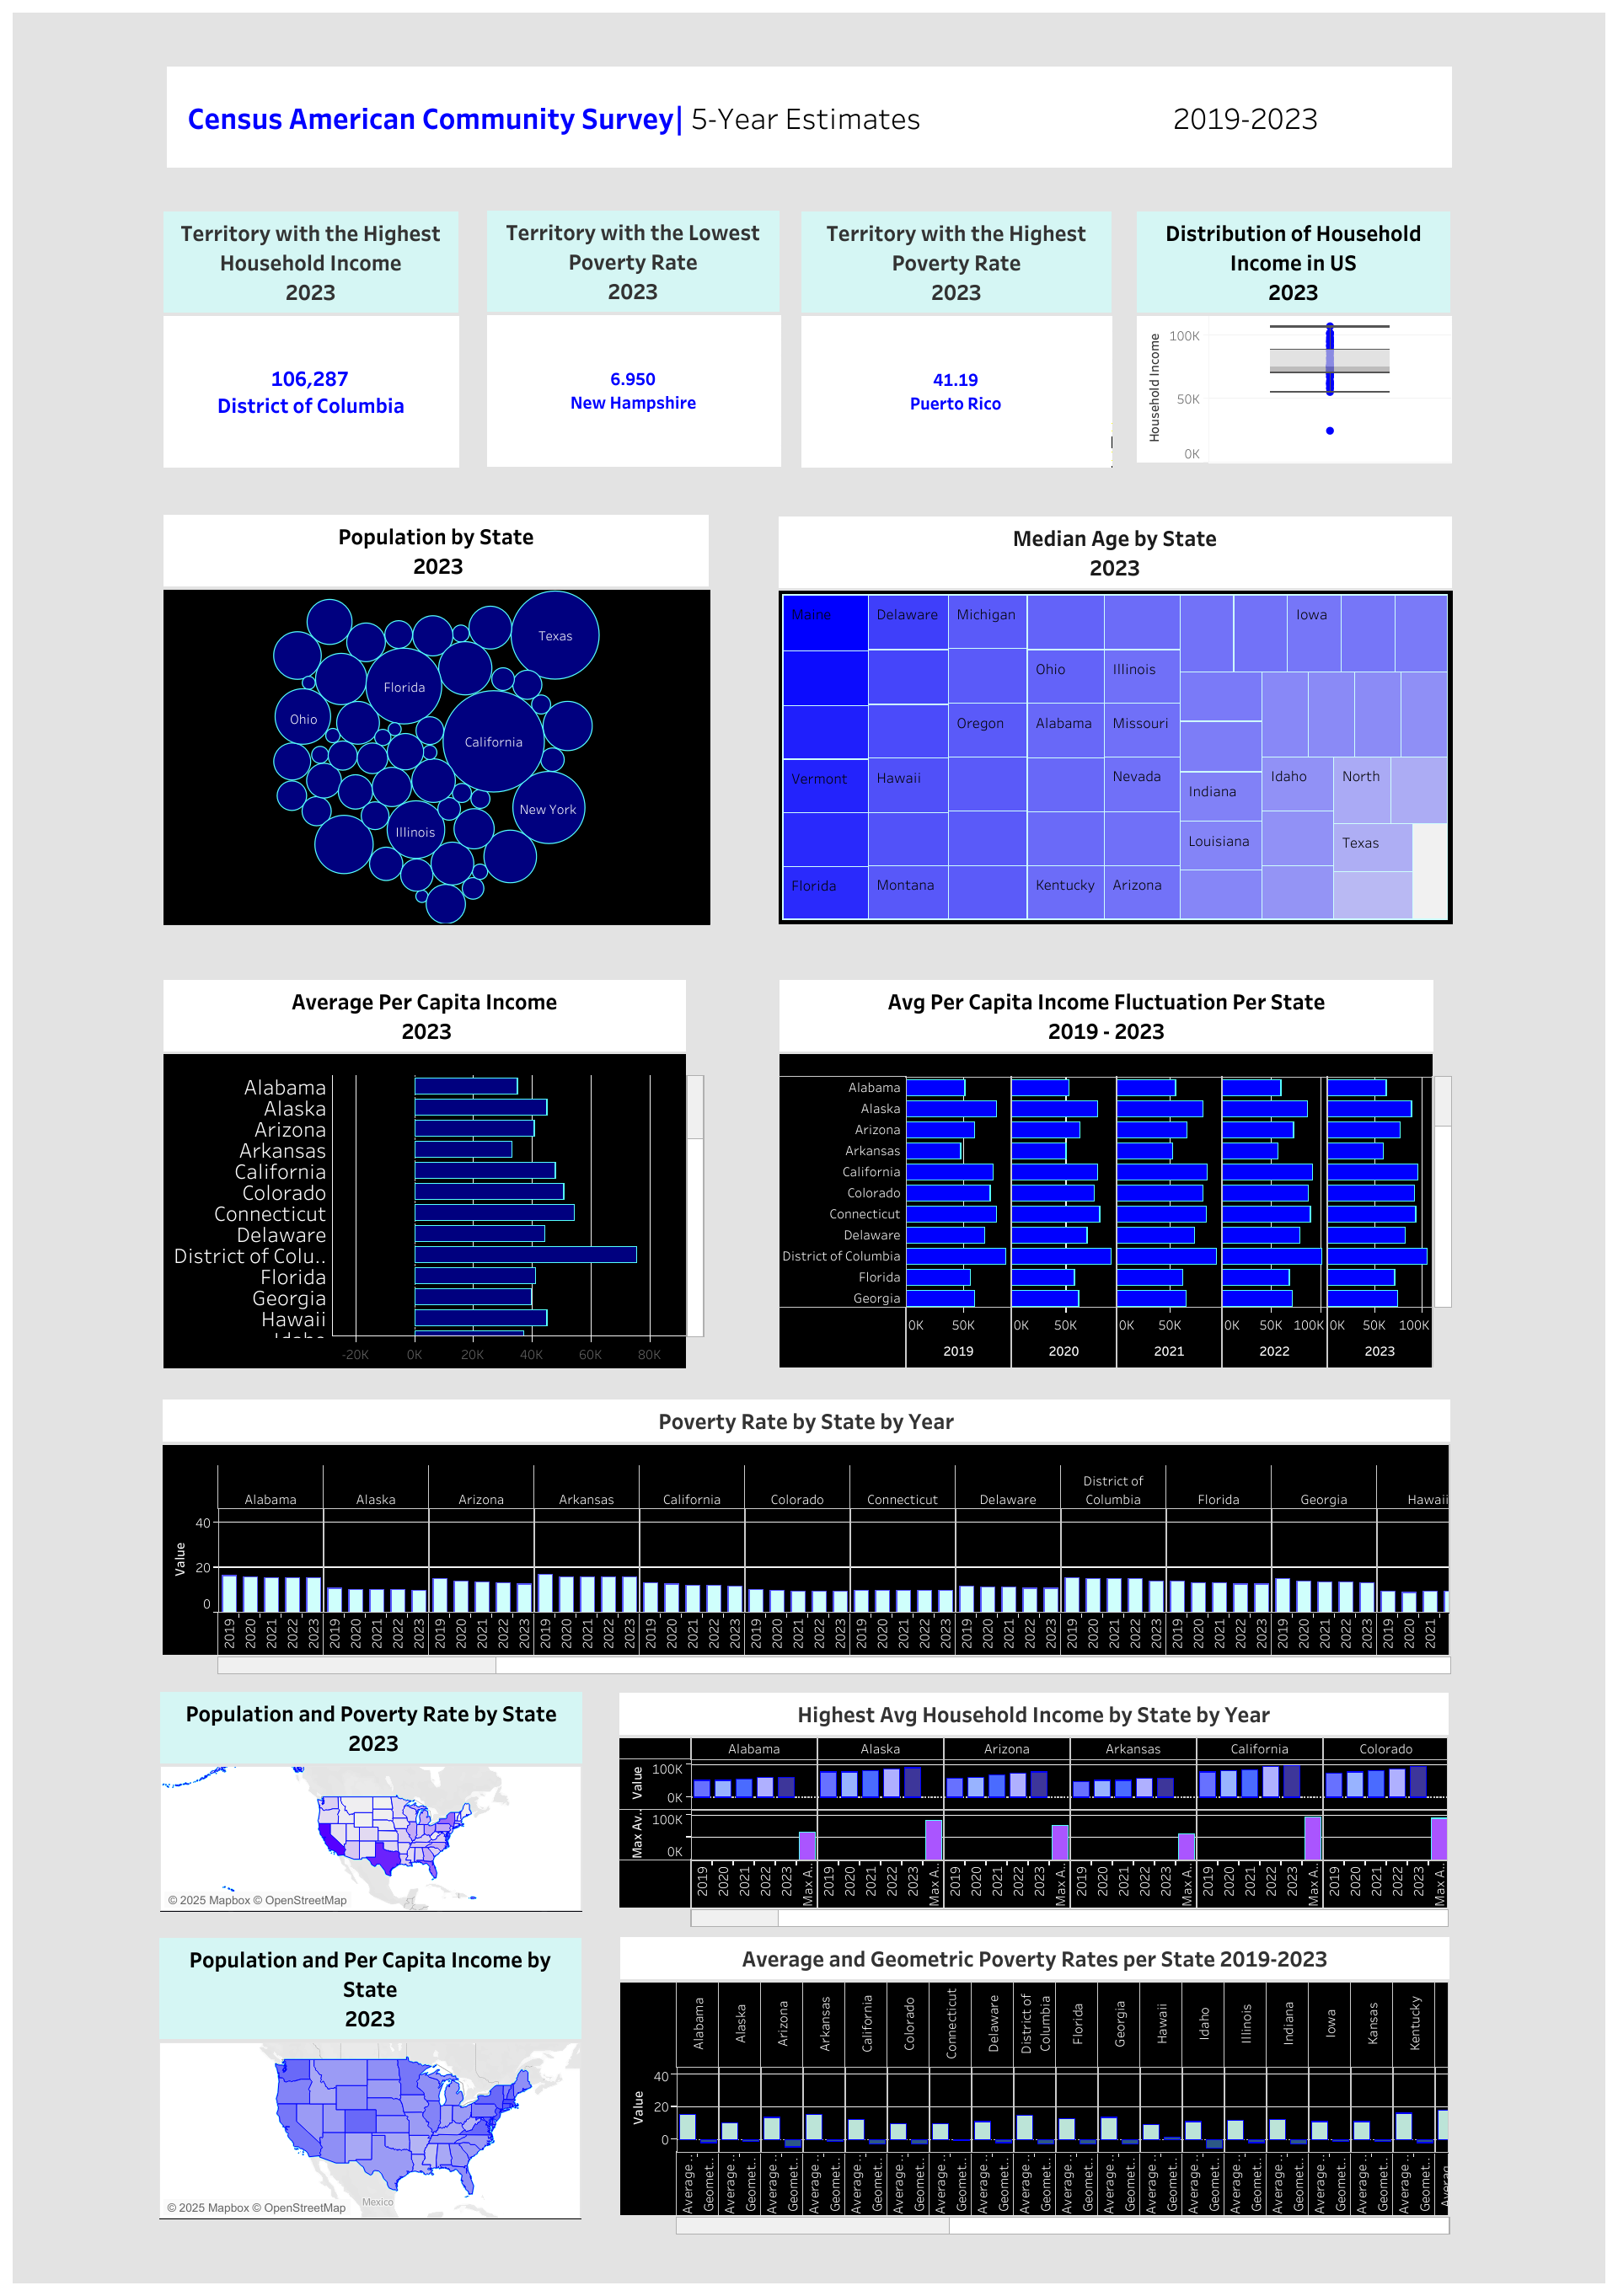

What the dashboard file says about the page in this screenshot:
{"tool":"tableau","page":{"name":"Dashboard 1","canvas":[1000,1000],"units":"permille","ordinal":0},"visuals":[{"type":"legend","title":"Sheet 5","param":"[federated.0bhnjyc1g3pehb1e9c5zw17sklt8].[sum:Median Age:qk]","box":[879.7,3.7,116.2,29.8]},{"type":"text","box":[45,26.2,794.3,44]},{"type":"worksheet","title":"Sheet 10","mark":"Automatic","box":[44.3,90.8,182.1,111.2]},{"type":"worksheet","title":"Sheet 13","mark":"Automatic","box":[241.4,91.8,181.4,111.2]},{"type":"worksheet","title":"Sheet 11","mark":"Automatic","box":[440,92.2,190.7,111.2]},{"type":"worksheet","title":"Sheet 12","mark":"Circle","rows":["Household Income (census_data.csv)"],"box":[646.4,92.7,193.6,109.2]},{"type":"worksheet","title":"Sheet 5","mark":"Automatic","box":[425.7,228.2,412.9,177.7]},{"type":"worksheet","title":"Sheet 3","mark":"Circle","box":[47.1,228.6,337.1,177.7]},{"type":"worksheet","title":"Sheet 2","mark":"Automatic","rows":["State"],"cols":["Per Capita Income"],"box":[47.9,428.2,335,160.7]},{"type":"worksheet","title":"Sheet 6","mark":"Bar","rows":["State (census_data.csv)"],"cols":["Household Income (census_data_2019.csv)","Household Income (census_data_2020.csv)","Household Income (census_data_2021.csv)","Household Income","Household Income (census_data.csv)"],"box":[425.7,428.2,425,168.9]},{"type":"worksheet","title":"Sheet 7","mark":"Bar","cols":["State (census_data_2019.csv)"],"box":[47.1,604.6,787.9,119.7]},{"type":"worksheet","title":"Sheet 4","mark":"Automatic","box":[46.4,732.6,260.7,95.9]},{"type":"worksheet","title":"Sheet 9","mark":"Automatic","rows":["Calculation_1874904855783563273"],"cols":["State (census_data_2019.csv)"],"box":[320.7,733.5,512.9,102.3]},{"type":"worksheet","title":"Sheet 8","mark":"Automatic","cols":["State (census_data.csv)"],"box":[320,843.1,512.9,129.8]},{"type":"worksheet","title":"Sheet 1","mark":"Multipolygon","box":[49.3,843.2,260.7,122.3]}]}

Visuals, with their boxes on the dashboard's canvas, which has no fixed pixel size, in thousandths of its width and height (x1, y1, x2, y2). These are canvas units, not pixel positions in the 1618x2296 screenshot, which may show the page scaled, cropped or inside an application window:
"Sheet 5" legend: (880,4,996,34)
text: (45,26,839,70)
"Sheet 10" worksheet: (44,91,226,202)
"Sheet 13" worksheet: (241,92,423,203)
"Sheet 11" worksheet: (440,92,631,203)
"Sheet 12" worksheet (Circle marks): (646,93,840,202)
"Sheet 5" worksheet: (426,228,839,406)
"Sheet 3" worksheet (Circle marks): (47,229,384,406)
"Sheet 2" worksheet: (48,428,383,589)
"Sheet 6" worksheet (Bar marks): (426,428,851,597)
"Sheet 7" worksheet (Bar marks): (47,605,835,724)
"Sheet 4" worksheet: (46,733,307,828)
"Sheet 9" worksheet: (321,734,834,836)
"Sheet 8" worksheet: (320,843,833,973)
"Sheet 1" worksheet (Multipolygon marks): (49,843,310,966)
